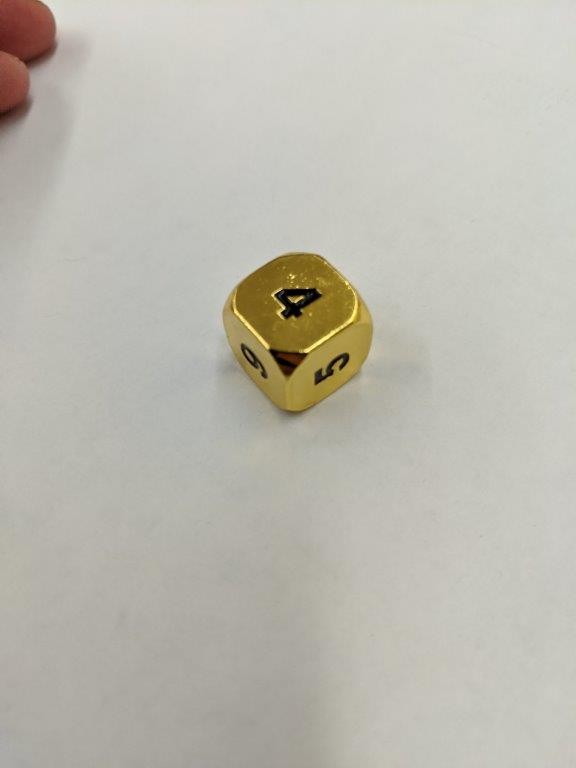d6-4: (224, 251, 374, 418)
